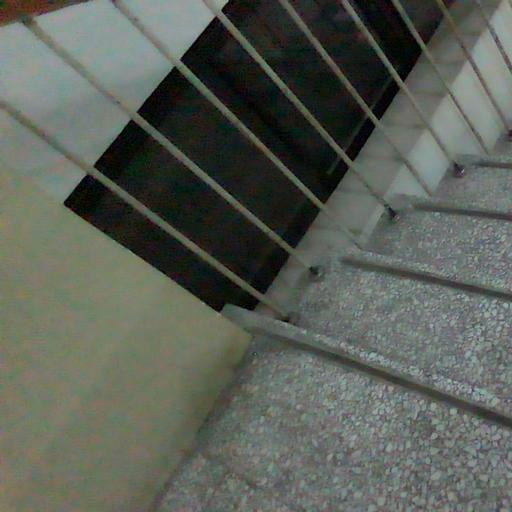stairs: (160, 208, 511, 511)
